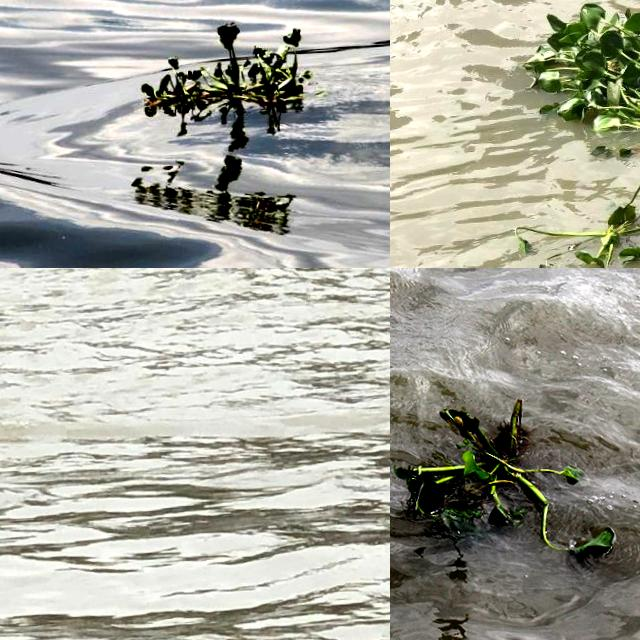water-hyacinth: (392, 384, 621, 577), (498, 119, 640, 269), (507, 1, 640, 152), (141, 25, 323, 122)
